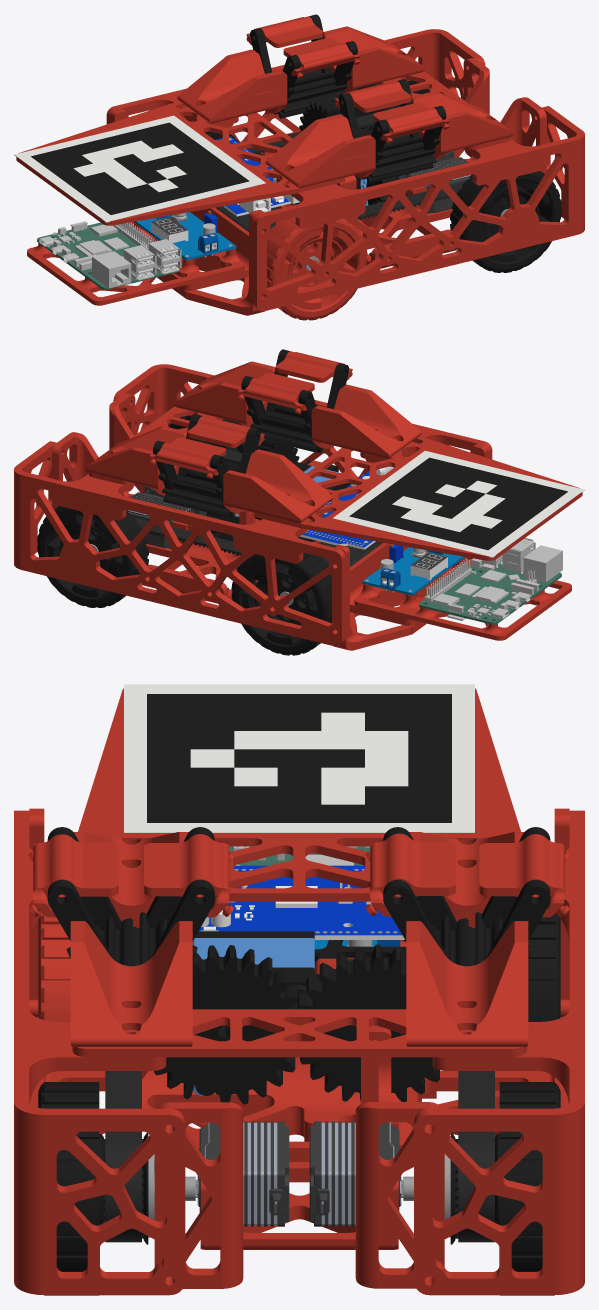
File: rover.glb
3 renders of one model, top to bottom at view 1: azimuth 30°, elevation 25°; view 2: azimuth 150°, elevation 25°; view 3: azimuth 270°, elevation 25°, orthographic. The views are drawn at different scales.
Visible parts, largest first — view 1: object 3, object 10, object 11, object 22, anim_rover_12_Wheels_v7_2_1__0, anim_rover_8_Wheels_v7_1__0, anim_rover_0_Component9_1, anim_rover_4_Component9_1, anim_rover_2_passive_latch_doors_4, anim_rover_6_passive_latch_doors_6, object 21, object 23 (+10 smaller); view 2: object 3, object 10, object 11, object 22, anim_rover_11_Wheels_v7_3_1__0, anim_rover_9_Wheels_v7_1_1__0, anim_rover_5_Component8_1, object 23, anim_rover_1_Component8_1, anim_rover_7_passive_latch_doors_7, anim_rover_3_passive_latch_doors_5, object 24 (+11 smaller); view 3: object 3, object 10, object 11, object 15, anim_rover_13_Spur_Gear_25_teeth_1, anim_rover_14_Component43_1, object 21, object 29, anim_rover_9_Wheels_v7_1_1__0, anim_rover_8_Wheels_v7_1__0, anim_rover_7_passive_latch_doors_7, anim_rover_2_passive_latch_doors_4 (+11 smaller).
Boxes of the visible parts, x1,y1,x2,y2 form: object 3: (16,26,584,315); object 10: (31,122,360,214); object 11: (14,115,265,222); object 22: (39,221,316,288); anim_rover_12_Wheels_v7_2_1__0: (267,217,367,320); anim_rover_8_Wheels_v7_1__0: (450,171,561,272); anim_rover_0_Component9_1: (362,106,446,183); anim_rover_4_Component9_1: (274,41,357,118); anim_rover_2_passive_latch_doors_4: (373,102,449,143); anim_rover_6_passive_latch_doors_6: (283,38,360,78); object 21: (216,113,464,255); object 23: (37,222,179,289); object 3: (14,361,582,650); object 10: (294,457,567,550); object 11: (333,450,584,557); object 22: (237,514,562,621); anim_rover_11_Wheels_v7_3_1__0: (231,552,331,655); anim_rover_9_Wheels_v7_1_1__0: (37,506,148,607); anim_rover_5_Component8_1: (153,440,234,517); object 23: (419,562,561,624); anim_rover_1_Component8_1: (241,376,322,453); anim_rover_7_passive_latch_doors_7: (149,437,226,478); anim_rover_3_passive_latch_doors_5: (237,373,314,413); object 24: (362,547,464,595); object 3: (14,688,584,1295); object 10: (147,694,451,994); object 11: (124,684,474,832); object 15: (197,1121,401,1226); anim_rover_13_Spur_Gear_25_teeth_1: (154,945,298,1104); anim_rover_14_Component43_1: (297,944,439,1101); object 21: (105,959,494,1242); object 29: (199,865,402,940); anim_rover_9_Wheels_v7_1_1__0: (450,1082,560,1295); anim_rover_8_Wheels_v7_1__0: (38,1082,148,1295); anim_rover_7_passive_latch_doors_7: (479,834,569,917); anim_rover_2_passive_latch_doors_4: (28,834,118,917).
Size of the model in its own units: 0.3274 by 0.1223 by 0.1872.
